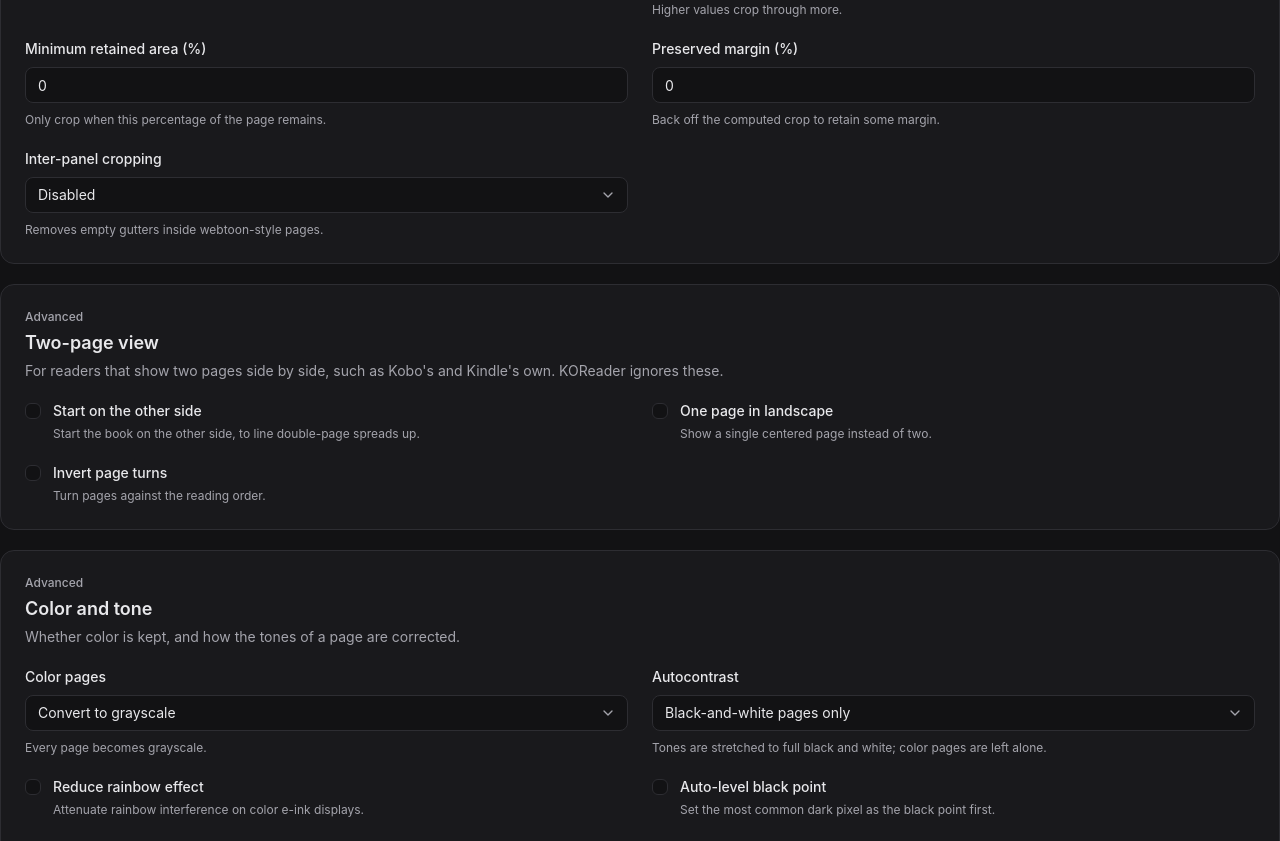
Scenario: mangaprep settings editor › offers the two-page view only for an EPUB
The width and height of the screenshot is (1280, 841).
(page scrolled)
Step 1. Click the checkbox named "Start on the other side" next to "Start on the other side" → (33, 411), box [25,403,41,419]
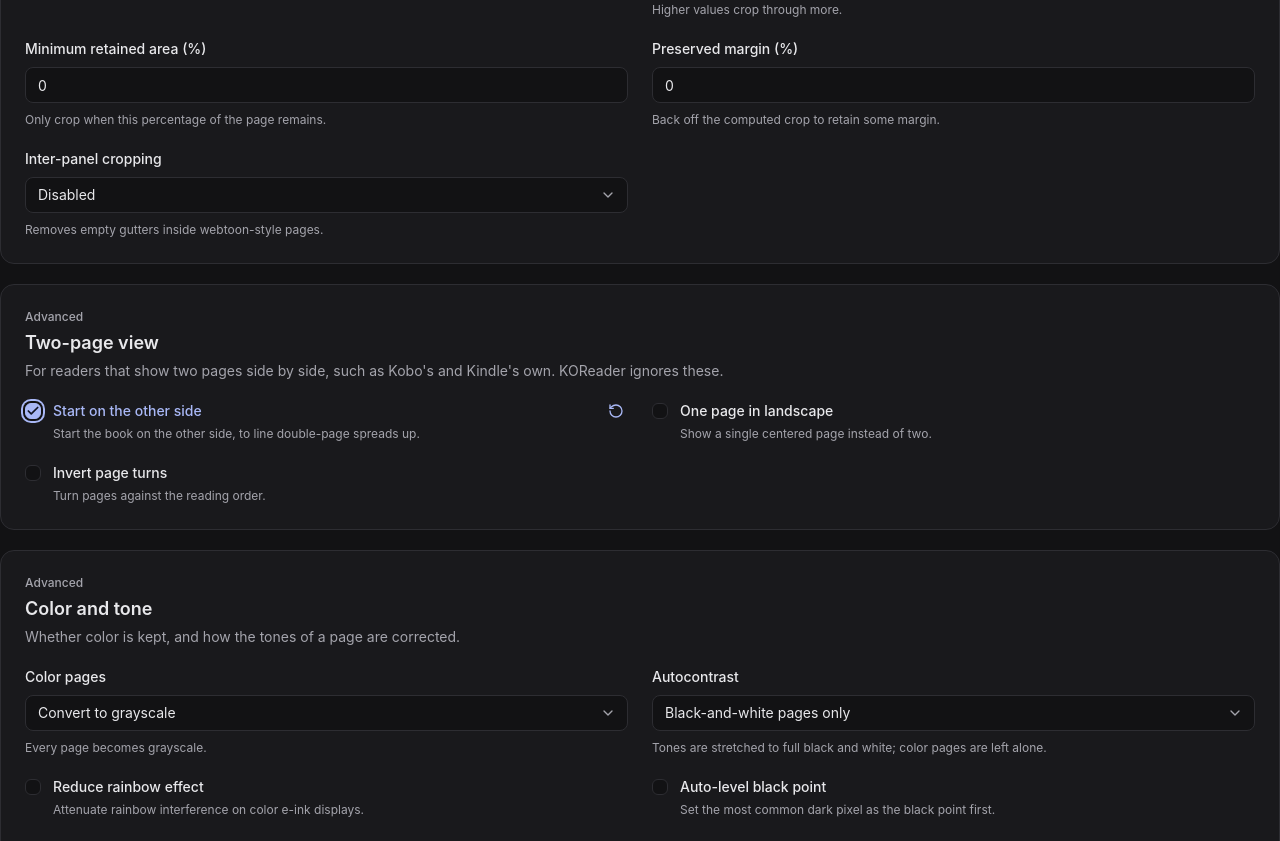
Step 2. Click the checkbox named "One page in landscape" next to "One page in landscape" → (660, 411), box [652,403,668,419]
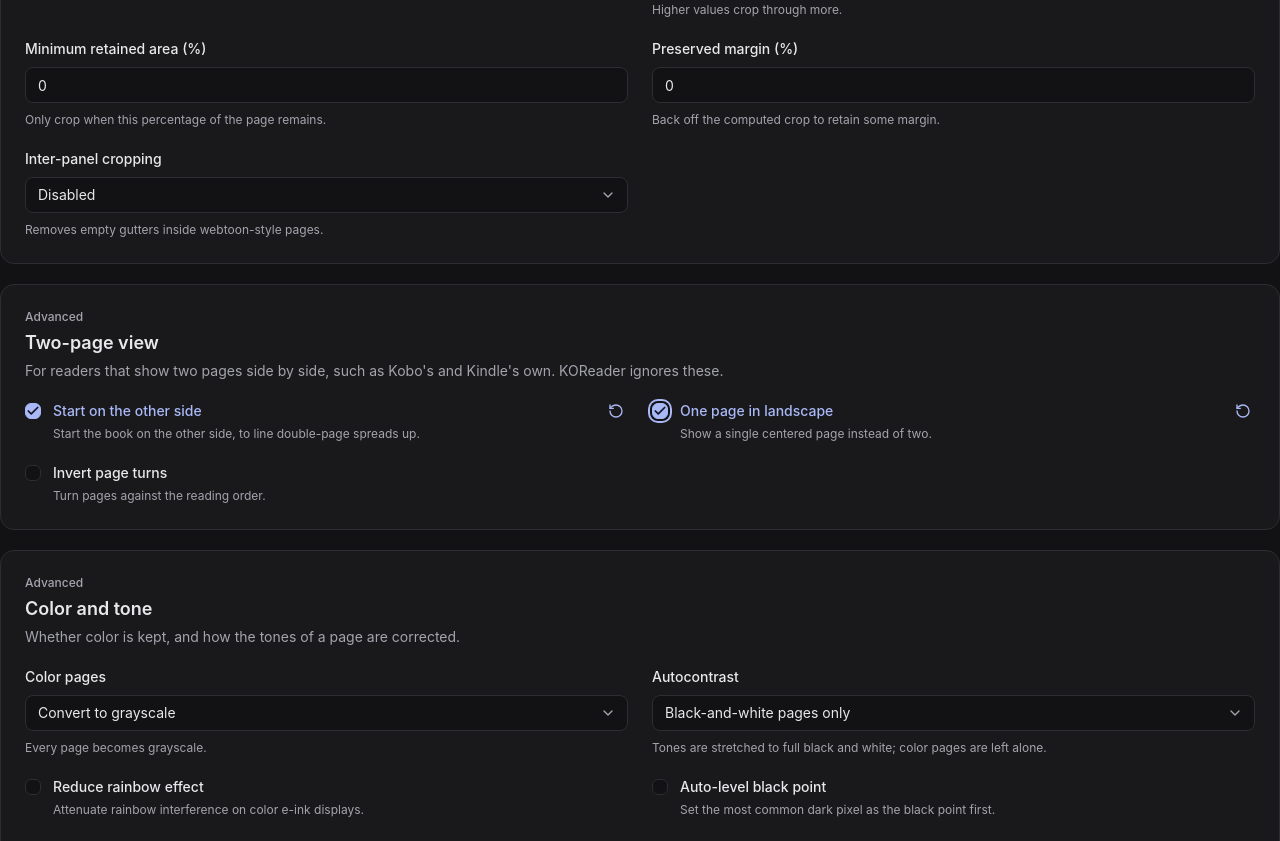
Step 3. Click the checkbox named "Invert page turns" next to "Invert page turns" → (33, 473), box [25,465,41,481]
(page scrolled)
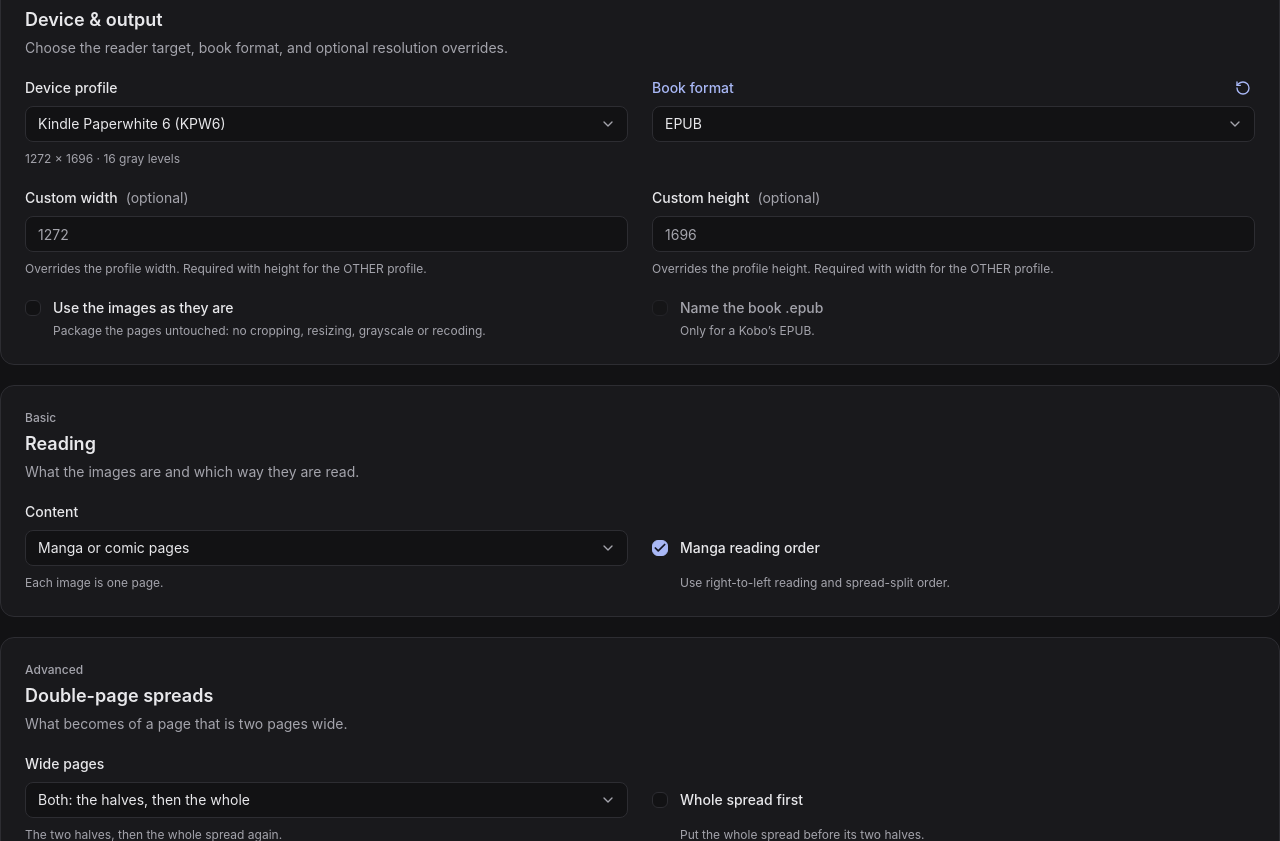
Step 4. Select "PDF" in the dropdown labelled "Book format" → (954, 124), box [652,106,1255,142]
(page scrolled)
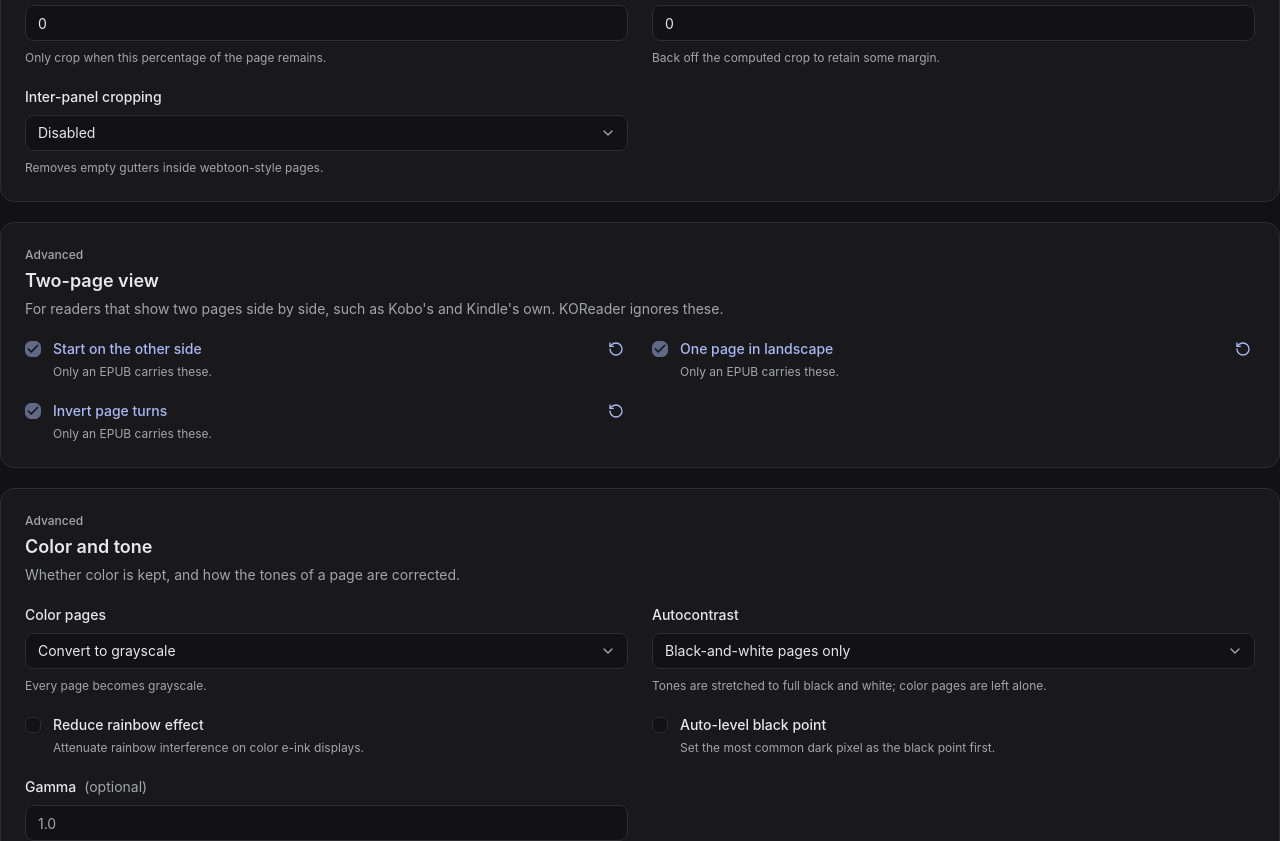
Result: the checkbox named "Start on the other side" next to "Start on the other side" is disabled at [25,341,41,357]
Result: the checkbox named "One page in landscape" next to "One page in landscape" is disabled at [652,341,668,357]
Result: the checkbox named "Invert page turns" next to "Invert page turns" is disabled at [25,403,41,419]
